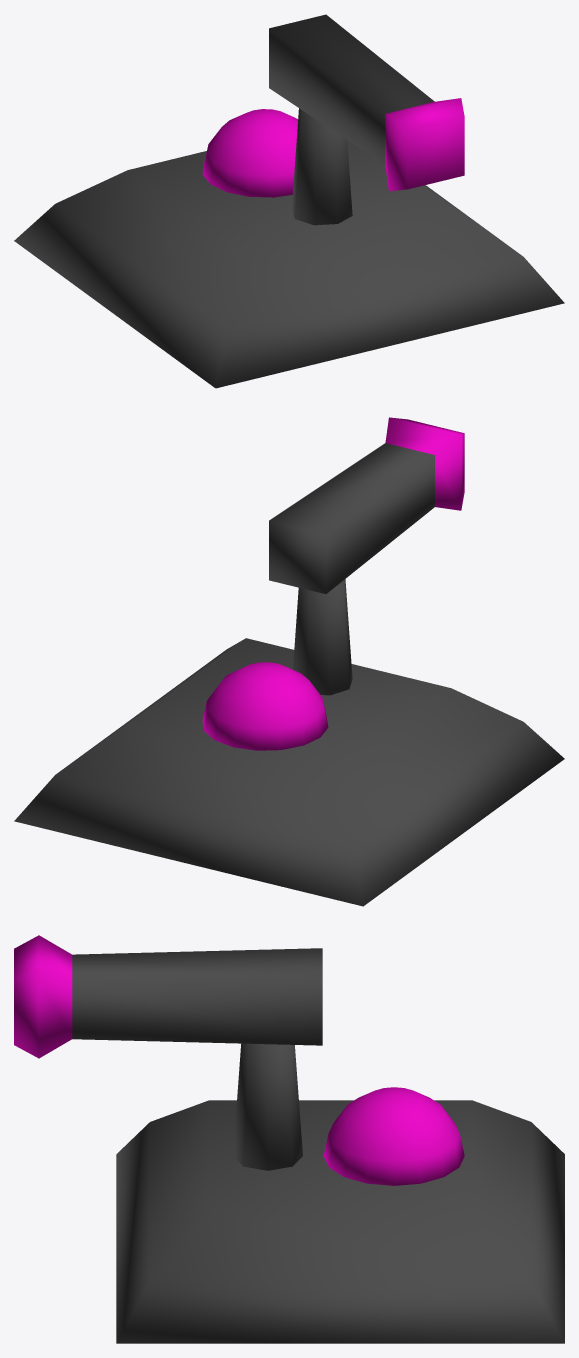
Rendered from ShieldTurret.glb.
3 renders of one model, top to bottom at view 1: azimuth 30°, elevation 25°; view 2: azimuth 150°, elevation 25°; view 3: azimuth 270°, elevation 25°, orthographic. The views are drawn at different scales.
Parts seen in each view (by area): view 1: Cube, Cube.002, Sphere; view 2: Cube, Cube.002, Sphere; view 3: Cube, Cube.002, Sphere.
Part boxes in pixels (x1=…): Cube: x1=14, y1=108, x2=564, y2=388; Cube.002: x1=269, y1=14, x2=464, y2=191; Sphere: x1=202, y1=109, x2=297, y2=197; Cube: x1=14, y1=579, x2=564, y2=906; Cube.002: x1=269, y1=417, x2=464, y2=594; Sphere: x1=202, y1=662, x2=328, y2=750; Cube: x1=116, y1=1043, x2=564, y2=1343; Cube.002: x1=14, y1=935, x2=322, y2=1058; Sphere: x1=323, y1=1087, x2=464, y2=1185.
Size of the model in its own units: 4.4 by 3.18 by 5.4.
